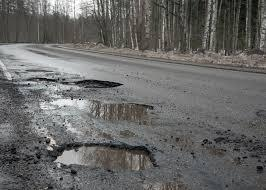alligator-crack: (1, 81, 45, 187)
pothole: (50, 137, 164, 177), (56, 97, 157, 123), (66, 74, 121, 95), (33, 73, 61, 88)
